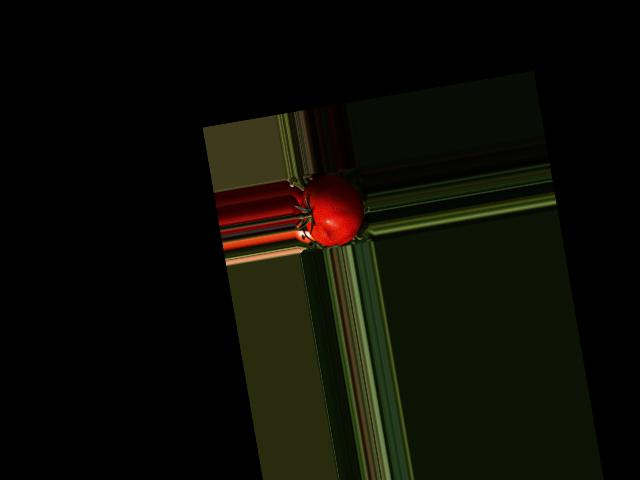tomato: (297, 170, 369, 250)
